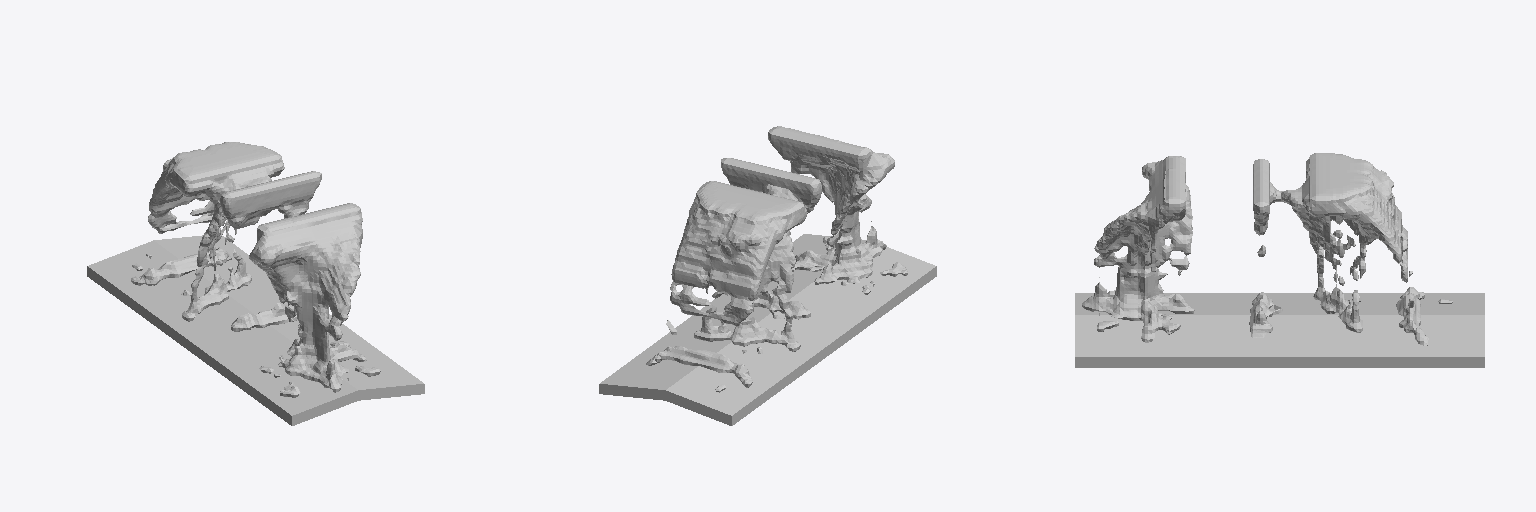
Rendered from Watersim_000023.obj.
3 views of the same model, side by side, from view 1: azimuth 30°, elevation 25°; view 2: azimuth 150°, elevation 25°; view 3: azimuth 270°, elevation 25° (orthographic).
Visible parts, largest first — view 1: Domain_Cube.006, Straße_Cube.007; view 2: Domain_Cube.006, Straße_Cube.007; view 3: Domain_Cube.006, Straße_Cube.007.
Part boxes in pixels (x1,y1,x2,y2): Domain_Cube.006: (131, 142, 380, 397); Straße_Cube.007: (87, 235, 424, 425); Domain_Cube.006: (646, 126, 907, 392); Straße_Cube.007: (599, 234, 936, 425); Domain_Cube.006: (1082, 153, 1452, 345); Straße_Cube.007: (1075, 293, 1484, 367).
Bounding box in the file's own units: 2.26 × 2.59 × 6.06.